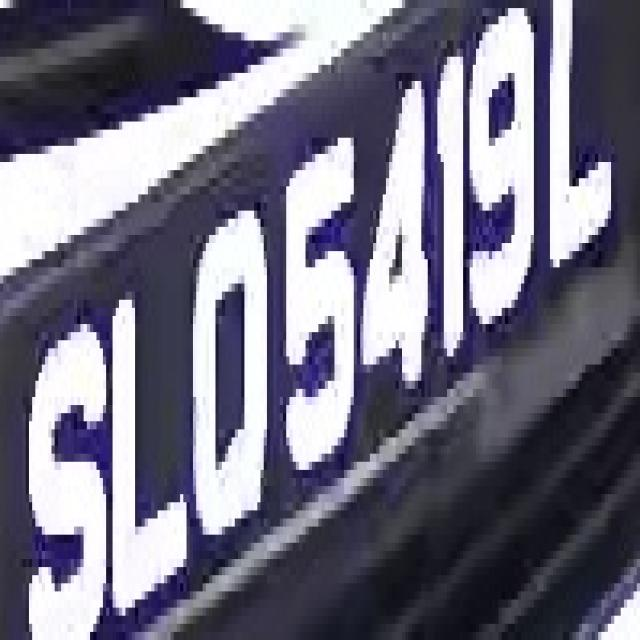1: (434, 0, 469, 421)
4: (354, 65, 431, 413)
5: (276, 138, 364, 494)
9: (466, 16, 544, 332)
L: (100, 267, 186, 640), (540, 0, 624, 284)
Q: (186, 202, 280, 551)
S: (0, 4, 1, 8)
